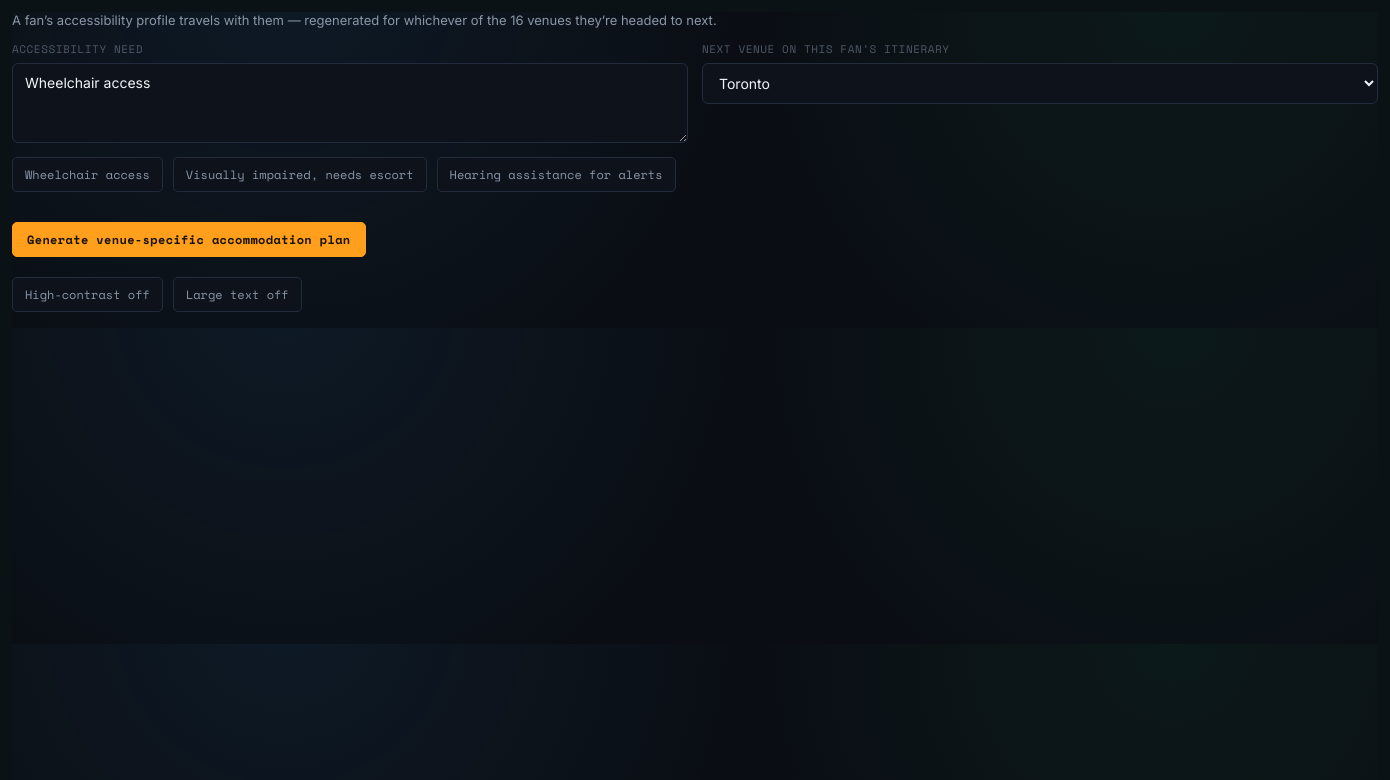
it: AccessPassport › generates a venue-specific accommodation plan
The image size is (1390, 780).
Click the button "Generate venue-specific accommodation plan" at {"x": 189, "y": 240}, box [12,222,366,257]
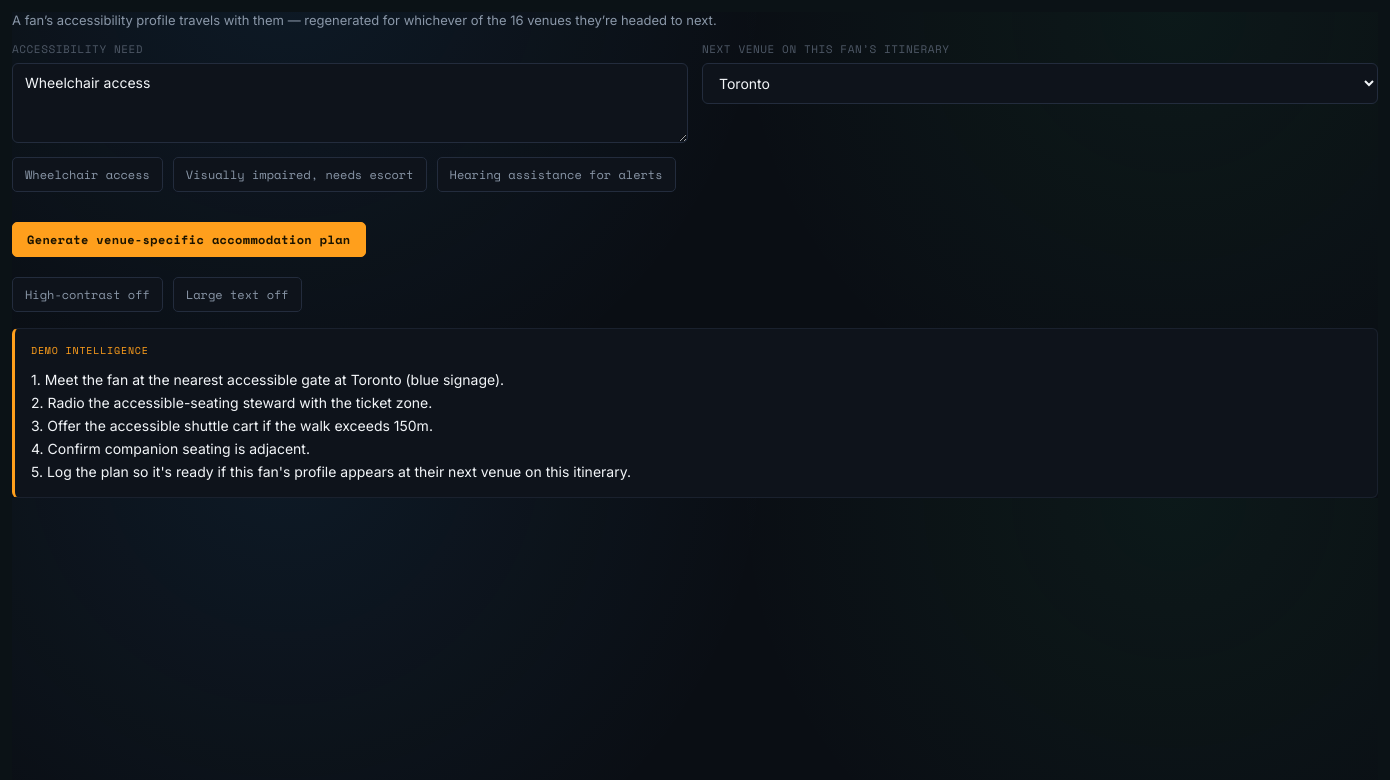
Check: the text "Demo intelligence" is shown, box [31,343,149,358]
